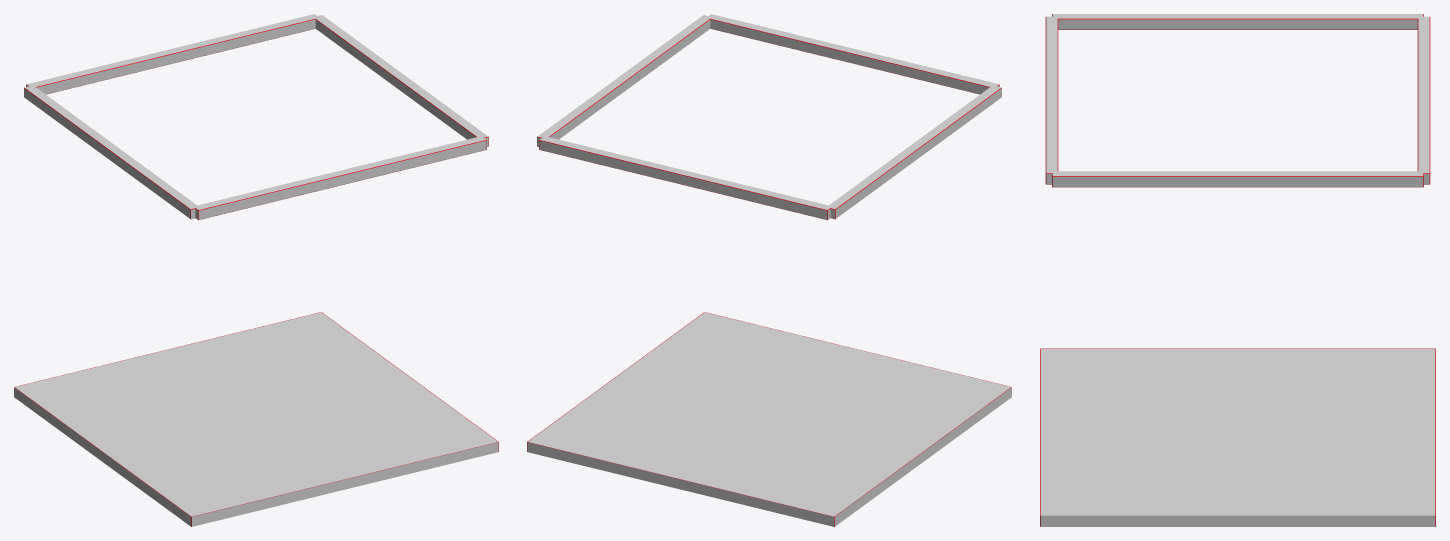
File: Geo_Prison_New.fbx
The picture shows the model from 3 angles, left to right: view 1: azimuth 30°, elevation 25°; view 2: azimuth 150°, elevation 25°; view 3: azimuth 270°, elevation 25°; orthographic projection. The views are drawn at different scales.
Visible parts, largest first — view 1: Cube.007; view 2: Cube.007; view 3: Cube.007.
Boxes of the visible parts, bbox=[...] form: Cube.007: bbox=[14, 14, 498, 526]; Cube.007: bbox=[527, 14, 1011, 526]; Cube.007: bbox=[1040, 14, 1435, 526].
Size of the model in its own units: 639 by 620 by 639.
